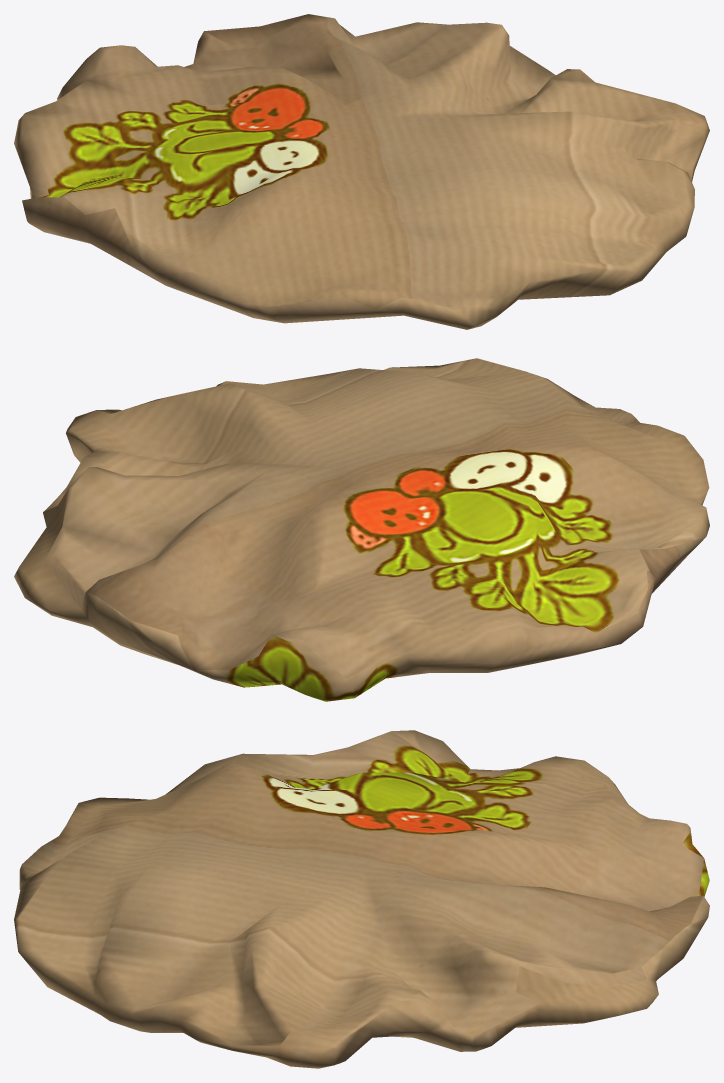
Rendered from BurgerSauce.fbx.
3 renders of one model, top to bottom at view 1: azimuth 30°, elevation 25°; view 2: azimuth 150°, elevation 25°; view 3: azimuth 270°, elevation 25°, orthographic. The views are drawn at different scales.
Parts seen in each view (by area): view 1: Group58080; view 2: Group58080; view 3: Group58080.
Boxes of the visible parts, x1,y1,x2,y2 form: Group58080: (14, 14, 709, 329); Group58080: (14, 358, 709, 701); Group58080: (14, 730, 709, 1068).
Bounding box in the file's own units: 63.42 × 10.45 × 62.32.
